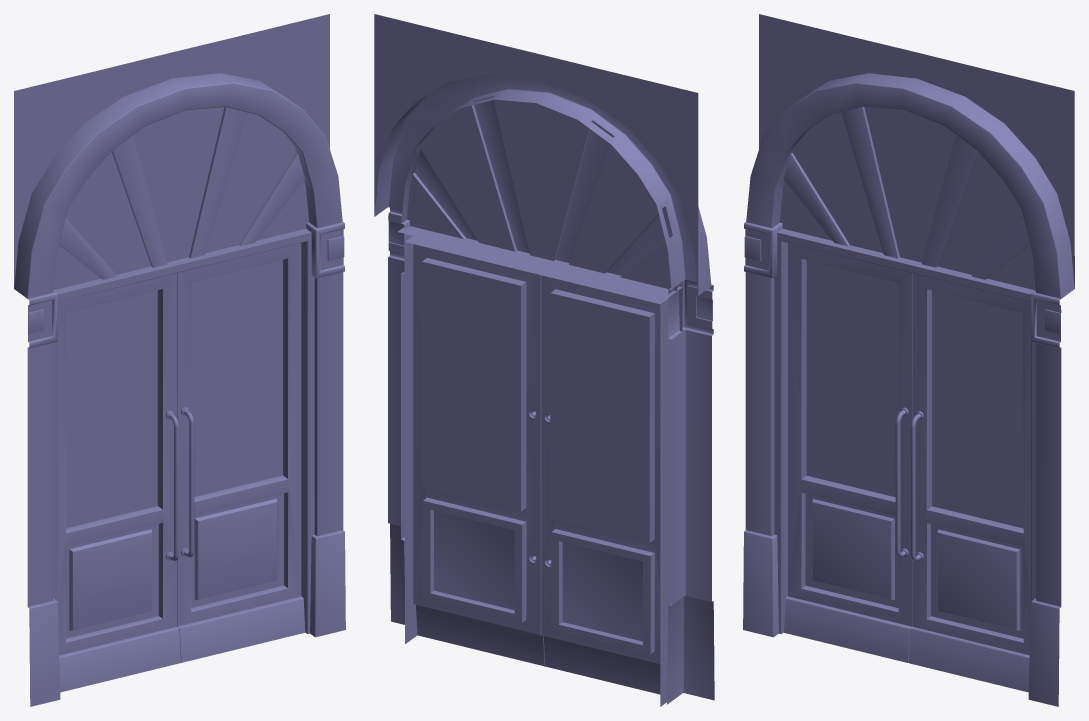
File: M_A_door_03.fbx
3 renders of one model, left to right at view 1: azimuth 30°, elevation 25°; view 2: azimuth 150°, elevation 25°; view 3: azimuth 330°, elevation 25°, orthographic. The views are drawn at different scales.
Parts seen in each view (by area): view 1: M_A_door_03; view 2: M_A_door_03; view 3: M_A_door_03.
Boxes of the visible parts, x1,y1,x2,y2 form: M_A_door_03: (14,14,345,706); M_A_door_03: (374,14,714,706); M_A_door_03: (743,14,1074,706).
Bounding box in the file's own units: 200 × 366 × 21.53.
